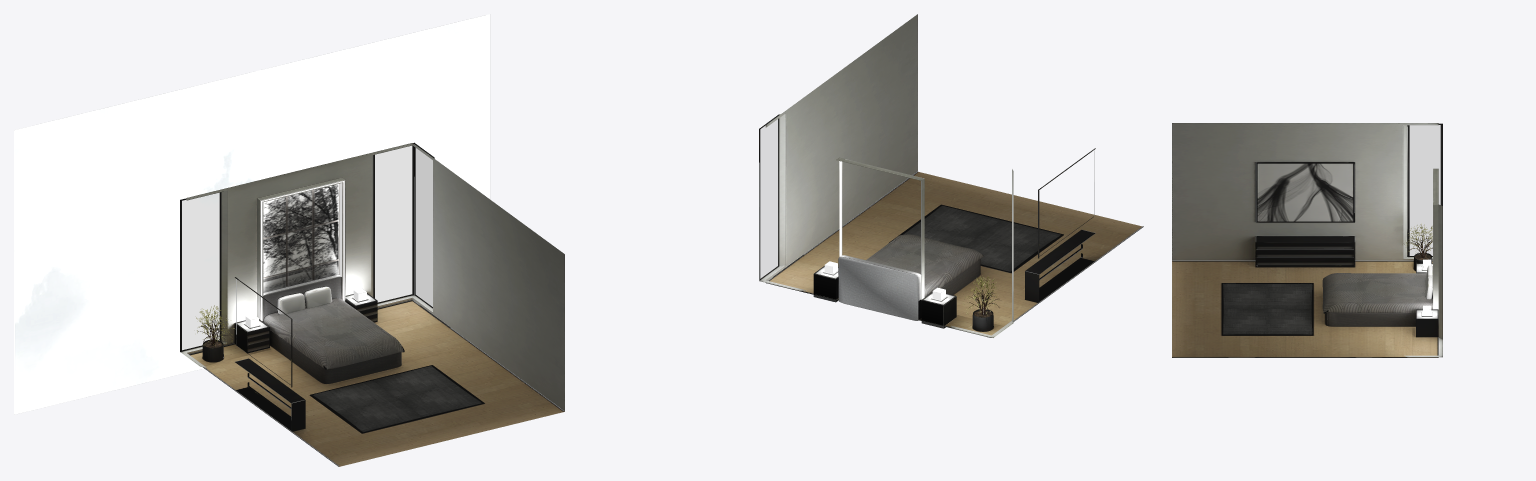
File: minimalistic_modern_bedroom.glb
The picture shows the model from 3 angles, left to right: view 1: azimuth 30°, elevation 25°; view 2: azimuth 150°, elevation 25°; view 3: azimuth 270°, elevation 25°; orthographic projection. The views are drawn at different scales.
Visible parts, largest first — view 1: Bedroom_Bedroom_0, Bedroom_Windows_0, Bedroom_Carpet_0, Bedroom_Duvet_0; view 2: Bedroom_Bedroom_0, Bedroom_Carpet_0, Bedroom_Duvet_0, Bedroom_Windows_0; view 3: Bedroom_Bedroom_0, Bedroom_Carpet_0, Bedroom_Duvet_0, Bedroom_Windows_0.
Boxes of the visible parts, x1,y1,x2,y2 form: Bedroom_Bedroom_0: [14, 14, 564, 466]; Bedroom_Windows_0: [182, 146, 432, 349]; Bedroom_Carpet_0: [310, 365, 484, 433]; Bedroom_Duvet_0: [263, 298, 404, 369]; Bedroom_Bedroom_0: [759, 14, 1143, 338]; Bedroom_Carpet_0: [889, 204, 1063, 273]; Bedroom_Duvet_0: [866, 234, 983, 297]; Bedroom_Windows_0: [760, 119, 777, 278]; Bedroom_Bedroom_0: [1172, 123, 1442, 357]; Bedroom_Carpet_0: [1221, 283, 1313, 335]; Bedroom_Duvet_0: [1322, 273, 1432, 313]; Bedroom_Windows_0: [1410, 125, 1440, 255].
Size of the model in its own units: 10.83 by 6.19 by 7.86.
4 materials, 3 textured.
